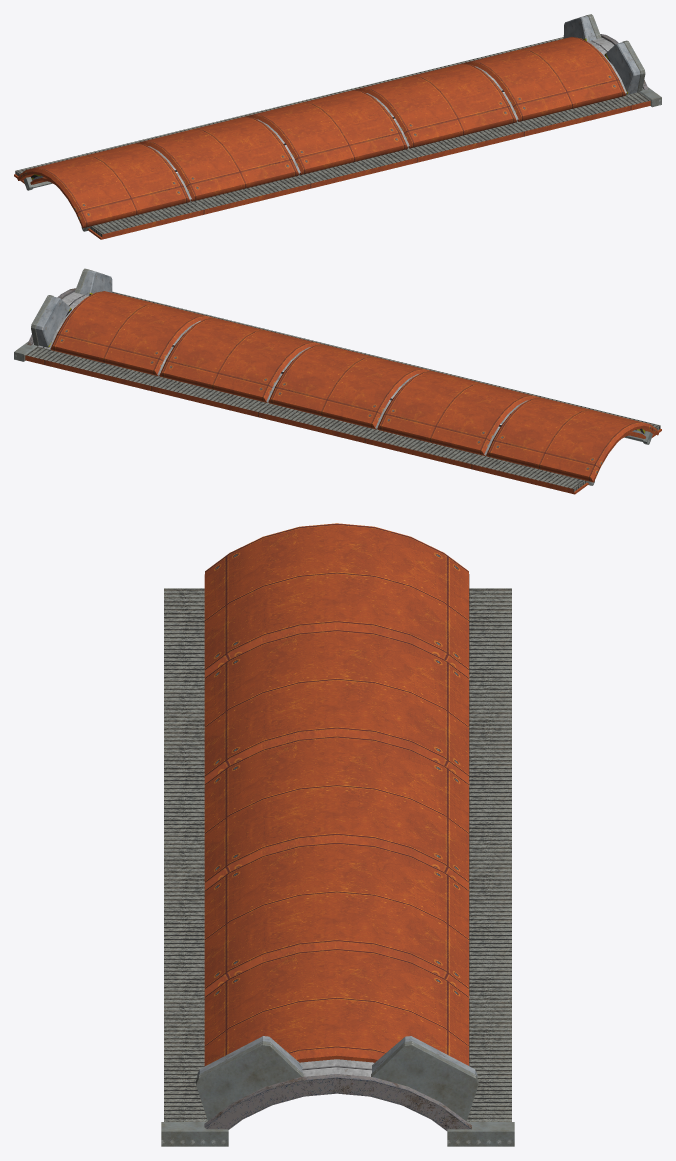
Rendered from Ob_StationRoof_RC.fbx.
The picture shows the model from 3 angles, top to bottom: view 1: azimuth 30°, elevation 25°; view 2: azimuth 150°, elevation 25°; view 3: azimuth 270°, elevation 25°; orthographic projection. The views are drawn at different scales.
Visible parts, largest first — view 1: Ob_StationRoof_RC; view 2: Ob_StationRoof_RC; view 3: Ob_StationRoof_RC.
Boxes of the visible parts, x1,y1,x2,y2 form: Ob_StationRoof_RC: (14,14,661,239); Ob_StationRoof_RC: (14,268,661,494); Ob_StationRoof_RC: (161,523,514,1146).
Bounding box in the file's own units: 8495 × 683 × 2289.
